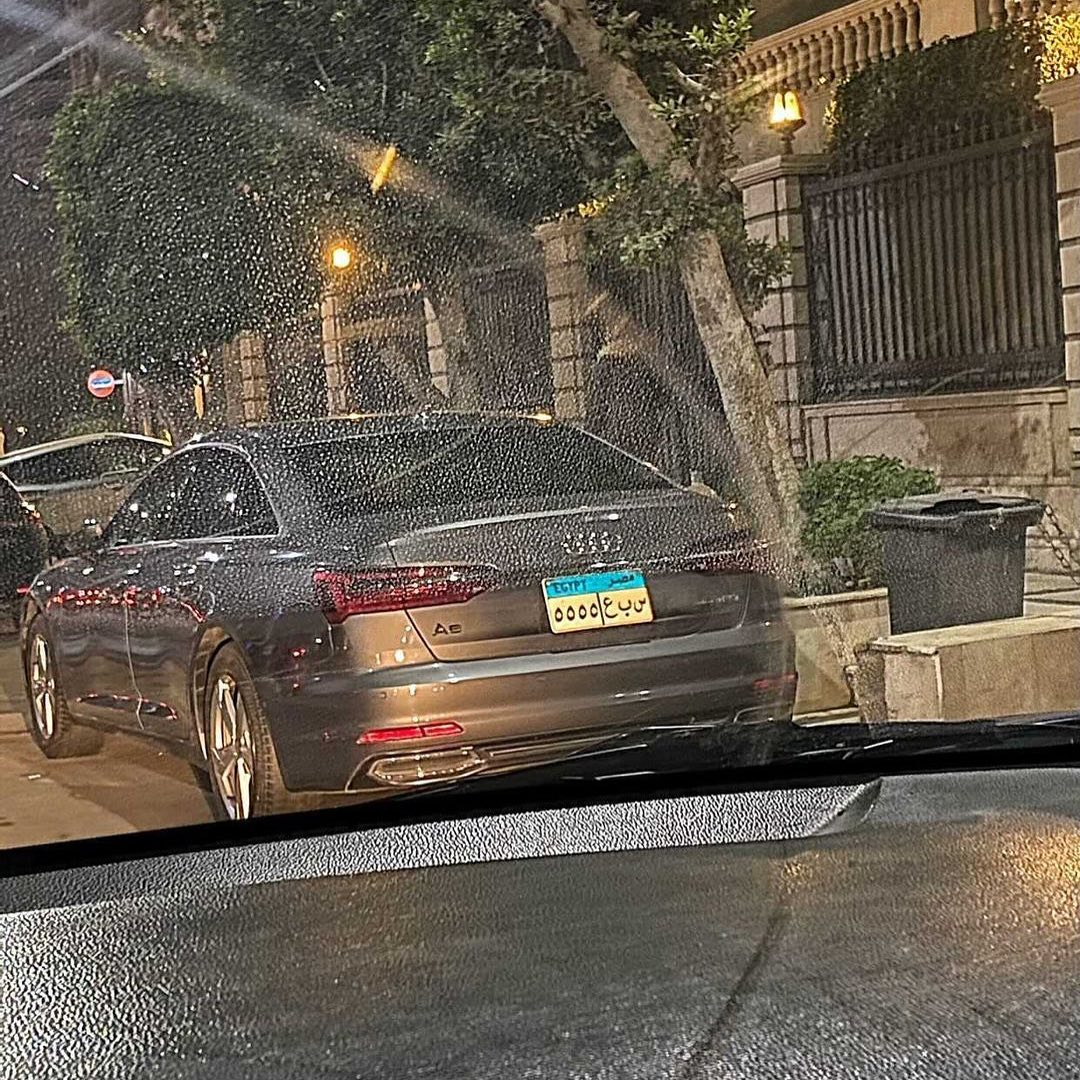carpl: (522, 576, 657, 630)
